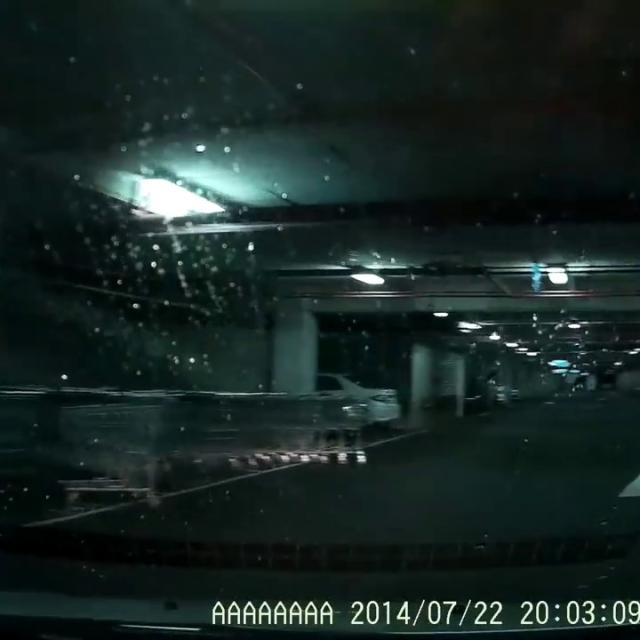Car: (316, 368, 400, 433)
